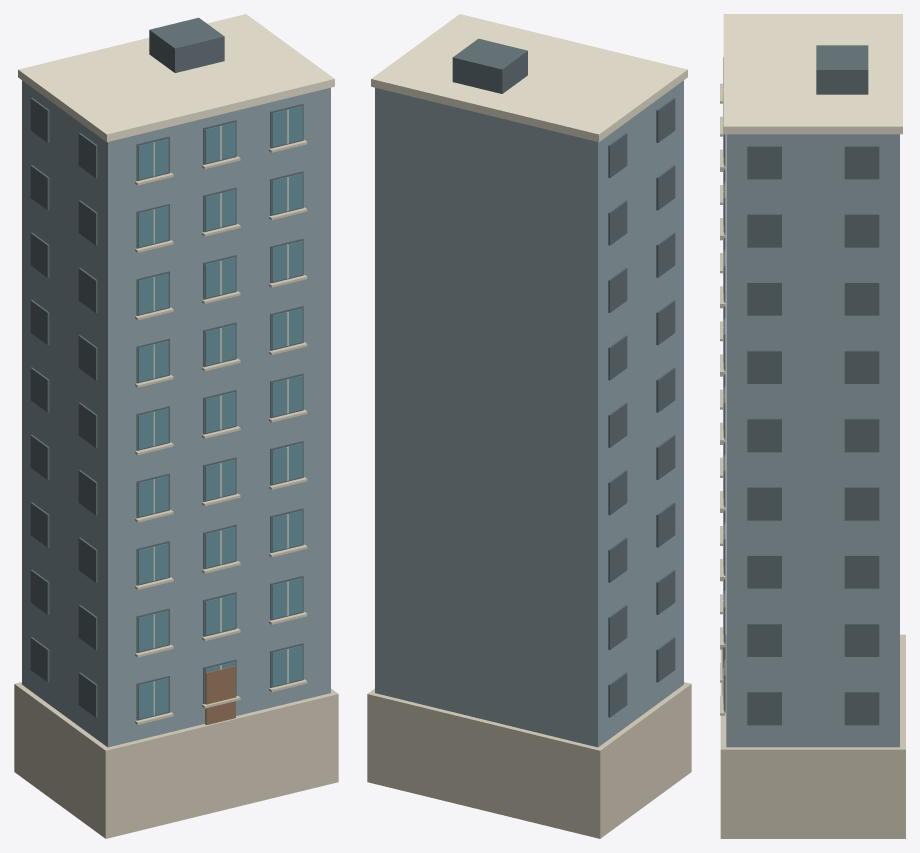
File: tower-2.glb
3 views of the same model, side by side, from view 1: azimuth 30°, elevation 25°; view 2: azimuth 150°, elevation 25°; view 3: azimuth 270°, elevation 25° (orthographic).
Size of the model in its own units: 9.4 by 28.05 by 6.42.
